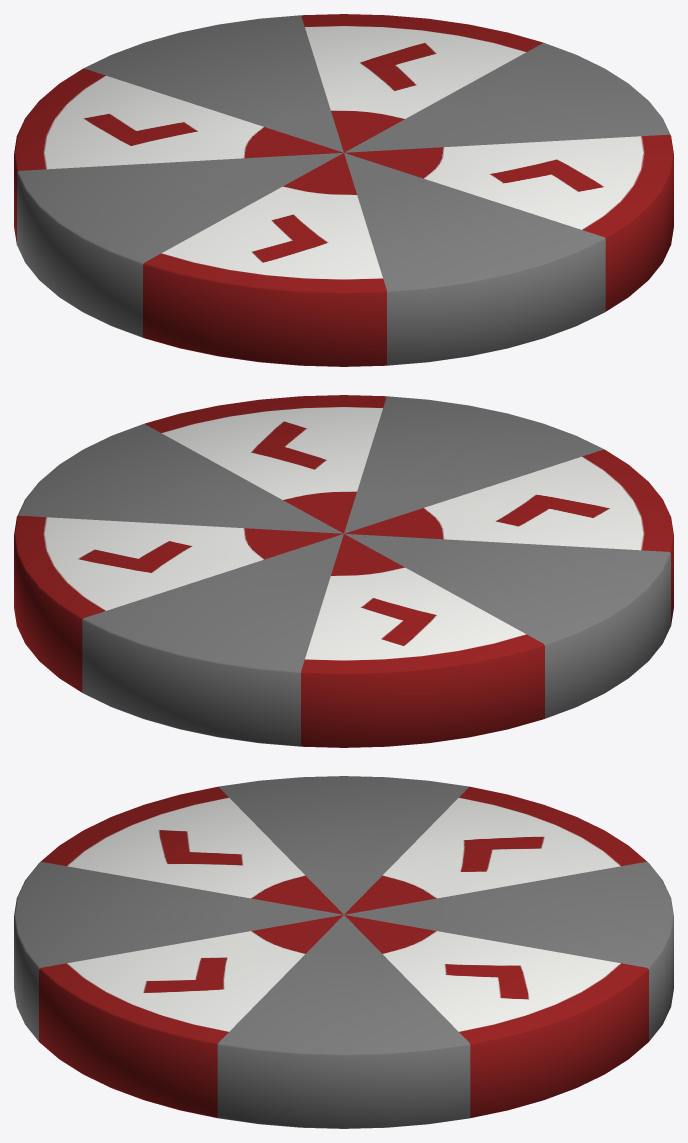
The model's file is E_SpinningWheel_Small_TwoTone.fbx.
The picture shows the model from 3 angles, top to bottom: view 1: azimuth 30°, elevation 25°; view 2: azimuth 150°, elevation 25°; view 3: azimuth 270°, elevation 25°; orthographic projection.
Parts seen in each view (by area): view 1: SpinningWheel_Small_TwoTone; view 2: SpinningWheel_Small_TwoTone; view 3: SpinningWheel_Small_TwoTone.
Part boxes in pixels (box(x1,y1,x2,y2)): SpinningWheel_Small_TwoTone: box(14, 14, 673, 366); SpinningWheel_Small_TwoTone: box(14, 395, 673, 747); SpinningWheel_Small_TwoTone: box(14, 776, 673, 1128).
Bounding box in the file's own units: 397 × 50 × 397.
